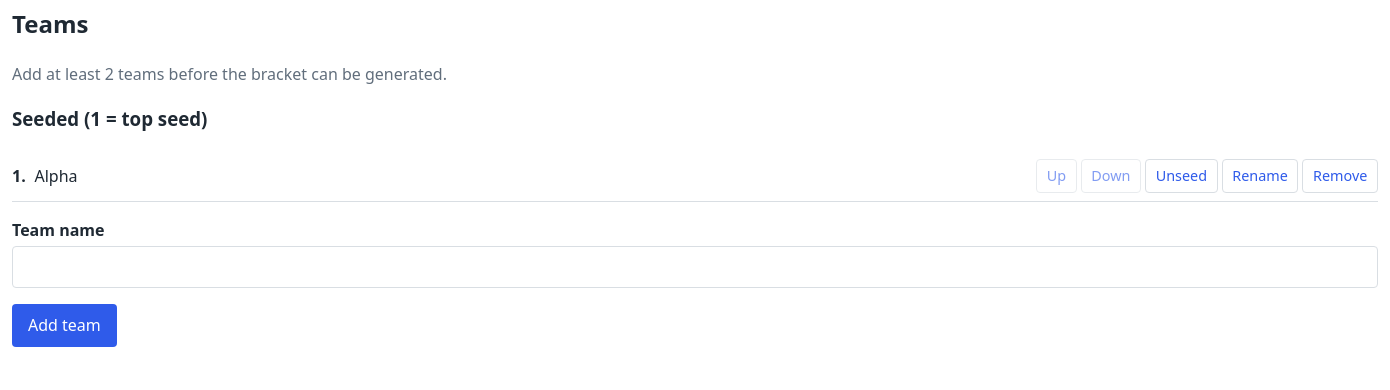
TeamManager › rejects the duplicate name alpha before sending it
In the field labelled "Team name": (695, 266) [12,246,1378,288], type "alpha"
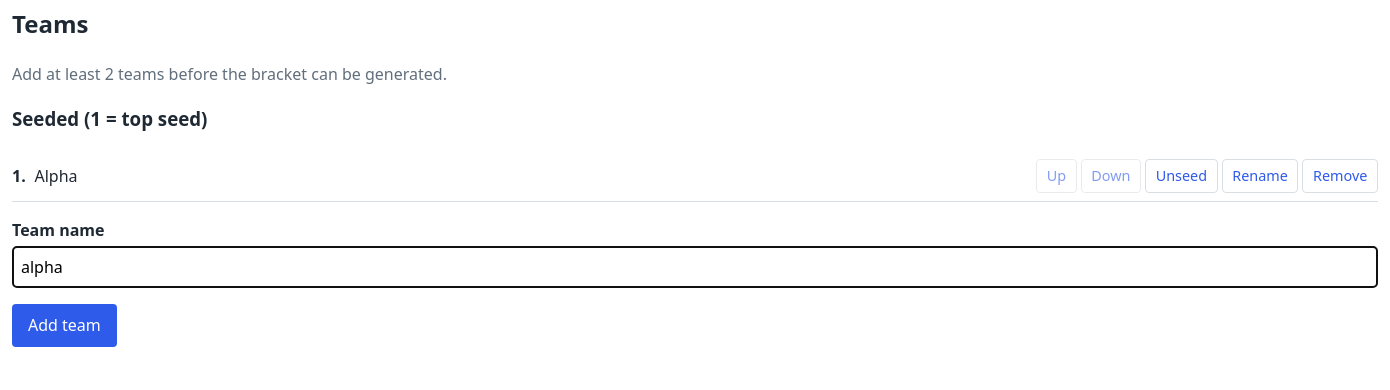
Click the button "Add team": (64, 325) [12,304,117,347]
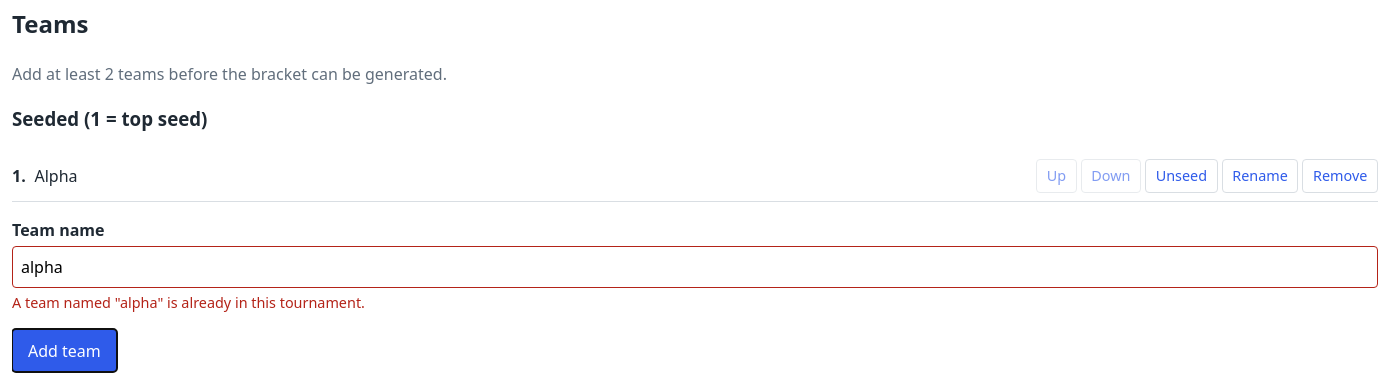
Check: the text "A team named \"alpha\" is already in this tournament." is shown, box [12,292,365,312]
